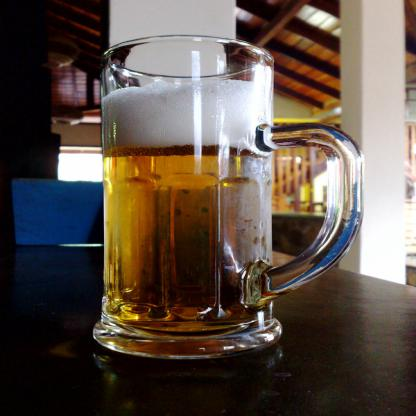drinking: (94, 34, 364, 360)
